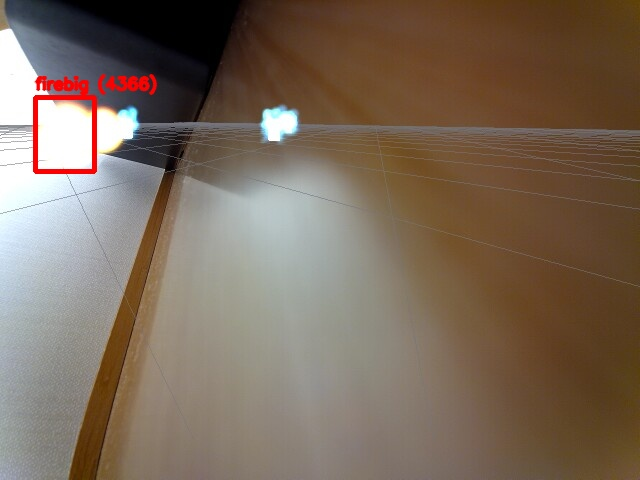firebig: (35, 97, 94, 171)
